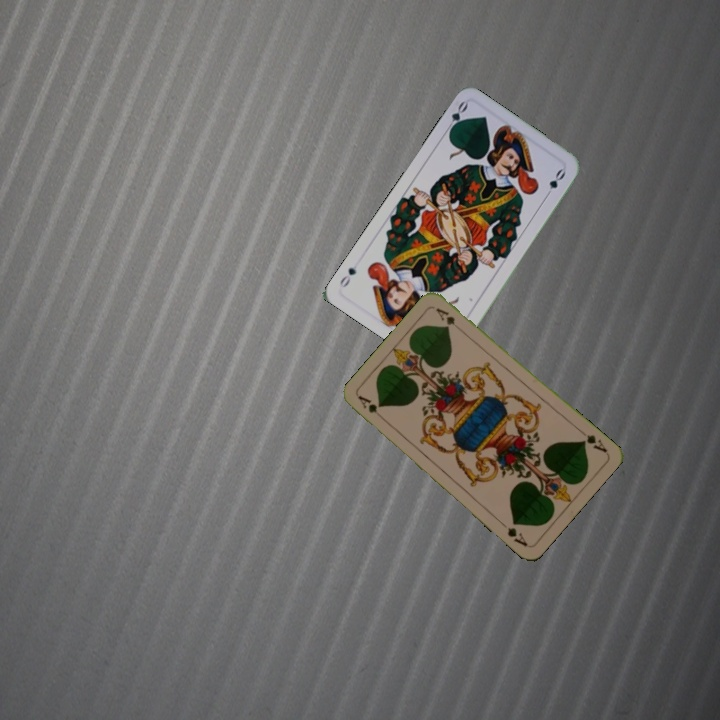GA: (354, 392, 388, 423), (575, 425, 610, 455)
GO: (441, 97, 470, 136)
